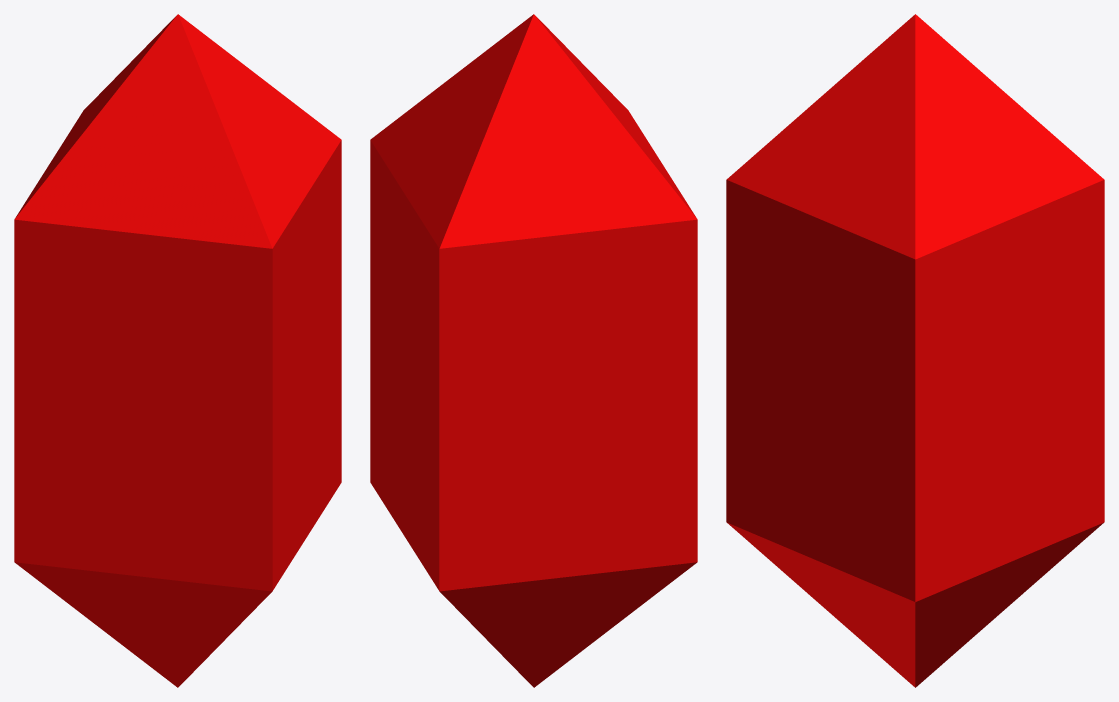
Rendered from gems.fbx.
3 renders of one model, left to right at view 1: azimuth 30°, elevation 25°; view 2: azimuth 150°, elevation 25°; view 3: azimuth 270°, elevation 25°, orthographic.
Parts seen in each view (by area): view 1: gems; view 2: gems; view 3: gems.
Boxes of the visible parts, box(x1,y1,x2,y2) form: gems: box(14, 14, 341, 687); gems: box(370, 14, 697, 687); gems: box(726, 14, 1104, 687).
Size of the model in its own units: 12 by 23.61 by 12.
